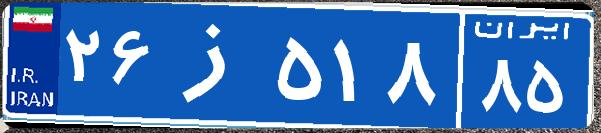1: (330, 28, 385, 110)
2: (57, 26, 110, 107)
5: (273, 28, 330, 110), (525, 38, 570, 115)
6: (110, 28, 158, 105)
8: (385, 28, 445, 110), (475, 38, 525, 113)
ز: (158, 15, 273, 115)
